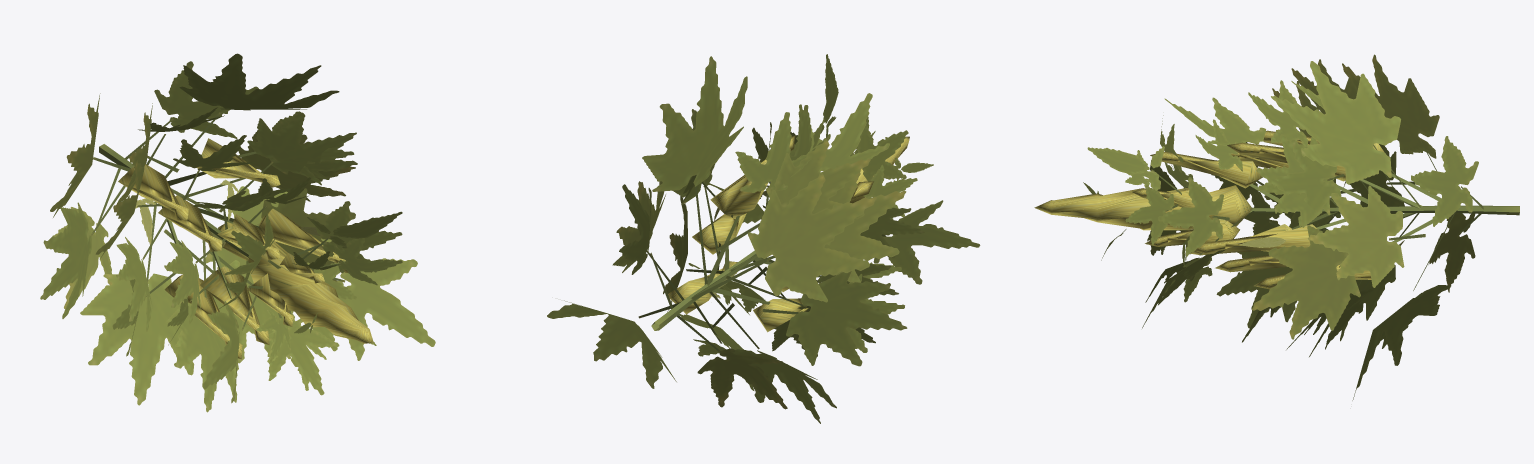
The model's file is p_gold_tree_ripe_c1_cards.obj.
3 views of the same model, side by side, from view 1: azimuth 30°, elevation 25°; view 2: azimuth 150°, elevation 25°; view 3: azimuth 270°, elevation 25° (orthographic). The views are drawn at different scales.
Bounding box in the file's own units: 1.32 × 1.28 × 1.45.
Materials: 1 (1 with a texture image).
